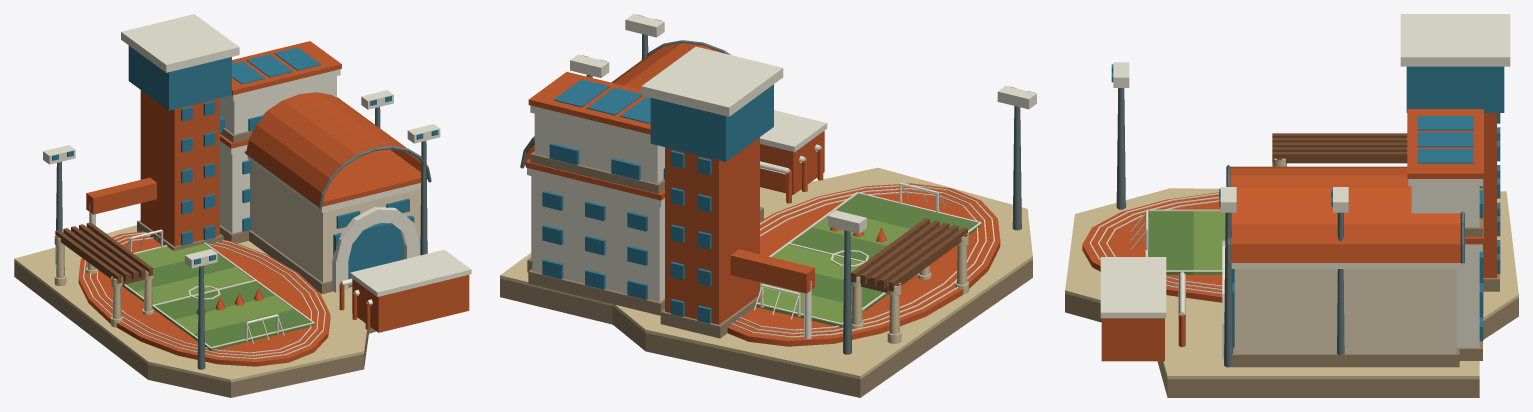
File: training-center-lv5.glb
The picture shows the model from 3 angles, left to right: view 1: azimuth 30°, elevation 25°; view 2: azimuth 150°, elevation 25°; view 3: azimuth 270°, elevation 25°; orthographic projection. The views are drawn at different scales.
Visible parts, largest first — view 1: running_track_orange, gym_barrel_roof_orange, coaching_tower_orange, foundation_sand, training_hall_cream, foundation_stoneDark, pitch_grass, pitch_grassLight, observation_canopy_white, equipment_platform_orange, observation_box_glass, training_hall_roof_orange (+23 smaller); view 2: foundation_sand, coaching_tower_orange, running_track_orange, performance_block_white, foundation_stoneDark, observation_canopy_white, observation_box_glass, performance_upper_floor_white, pitch_grass, coaching_shelter_wood, pitch_grassLight, performance_block_windows_glass (+19 smaller); view 3: gym_barrel_roof_orange, training_hall_cream, foundation_sand, foundation_stoneDark, observation_canopy_white, observation_box_glass, running_track_orange, coaching_shelter_wood, equipment_platform_white, training_hall_stoneDark, performance_upper_floor_roof_orange, lighting_iron (+13 smaller).
Part boxes in pixels (bbox=[...]): running_track_orange: bbox=[78, 231, 330, 366]; gym_barrel_roof_orange: bbox=[244, 92, 427, 207]; coaching_tower_orange: bbox=[140, 90, 219, 246]; foundation_sand: bbox=[14, 225, 367, 382]; training_hall_cream: bbox=[250, 161, 420, 282]; foundation_stoneDark: bbox=[14, 261, 376, 397]; pitch_grass: bbox=[122, 254, 313, 350]; pitch_grassLight: bbox=[133, 244, 293, 336]; observation_canopy_white: bbox=[121, 14, 239, 72]; equipment_platform_orange: bbox=[352, 275, 469, 332]; observation_box_glass: bbox=[128, 45, 231, 110]; training_hall_roof_orange: bbox=[322, 149, 420, 206]; foundation_sand: bbox=[500, 167, 1032, 379]; coaching_tower_orange: bbox=[665, 137, 759, 324]; running_track_orange: bbox=[727, 183, 1000, 346]; performance_block_white: bbox=[528, 168, 664, 301]; foundation_stoneDark: bbox=[500, 259, 1032, 397]; observation_canopy_white: bbox=[641, 46, 783, 116]; observation_box_glass: bbox=[650, 84, 773, 161]; performance_upper_floor_white: bbox=[530, 105, 664, 183]; pitch_grass: bbox=[763, 194, 980, 310]; coaching_shelter_wood: bbox=[851, 218, 968, 295]; pitch_grassLight: bbox=[756, 216, 909, 327]; performance_block_windows_glass: bbox=[542, 191, 647, 299]; gym_barrel_roof_orange: bbox=[1230, 166, 1460, 262]; training_hall_cream: bbox=[1234, 269, 1456, 353]; foundation_sand: bbox=[1065, 188, 1518, 379]; foundation_stoneDark: bbox=[1065, 293, 1518, 397]; observation_canopy_white: bbox=[1400, 14, 1510, 66]; observation_box_glass: bbox=[1406, 66, 1504, 112]; running_track_orange: bbox=[1082, 192, 1222, 302]; coaching_shelter_wood: bbox=[1272, 133, 1407, 163]; equipment_platform_white: bbox=[1100, 257, 1166, 318]; training_hall_stoneDark: bbox=[1231, 347, 1459, 367]; performance_upper_floor_roof_orange: bbox=[1407, 109, 1483, 178]; lighting_iron: bbox=[1116, 88, 1344, 367].
Size of the model in its own units: 0.9785 by 0.6406 by 1.
